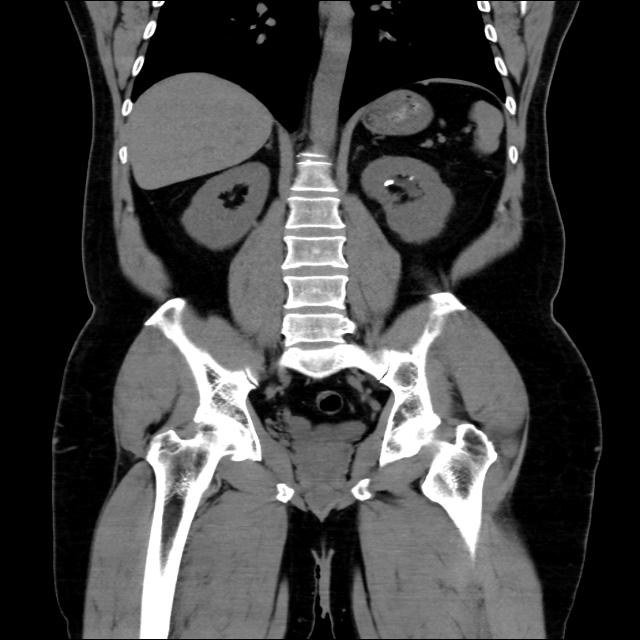kidneystone: (384, 179, 394, 186)
